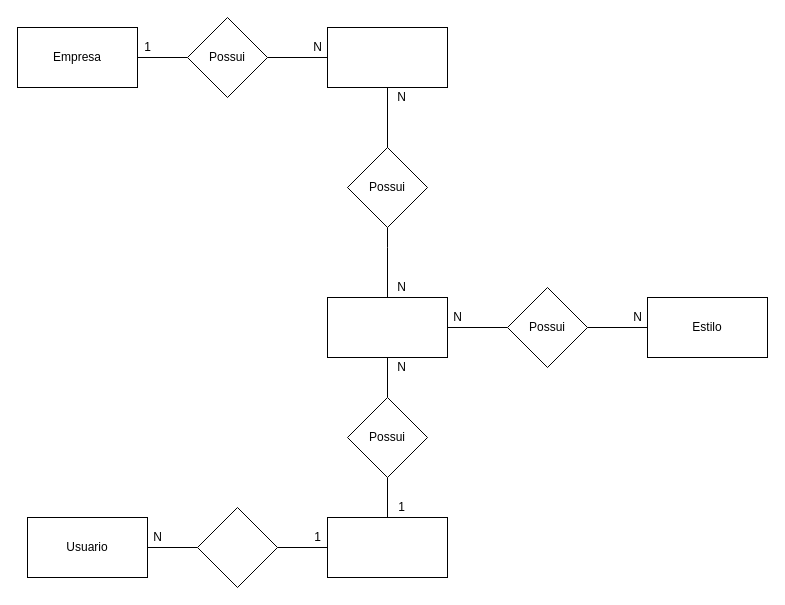
Image size: 785x605. Some labels were removed from this diagram. Each missing label, with the box of its shape:
Acessa: (196, 506, 278, 588)
Album: (326, 296, 448, 358)
Artista: (326, 26, 448, 88)
Plataforma: (326, 516, 448, 578)
